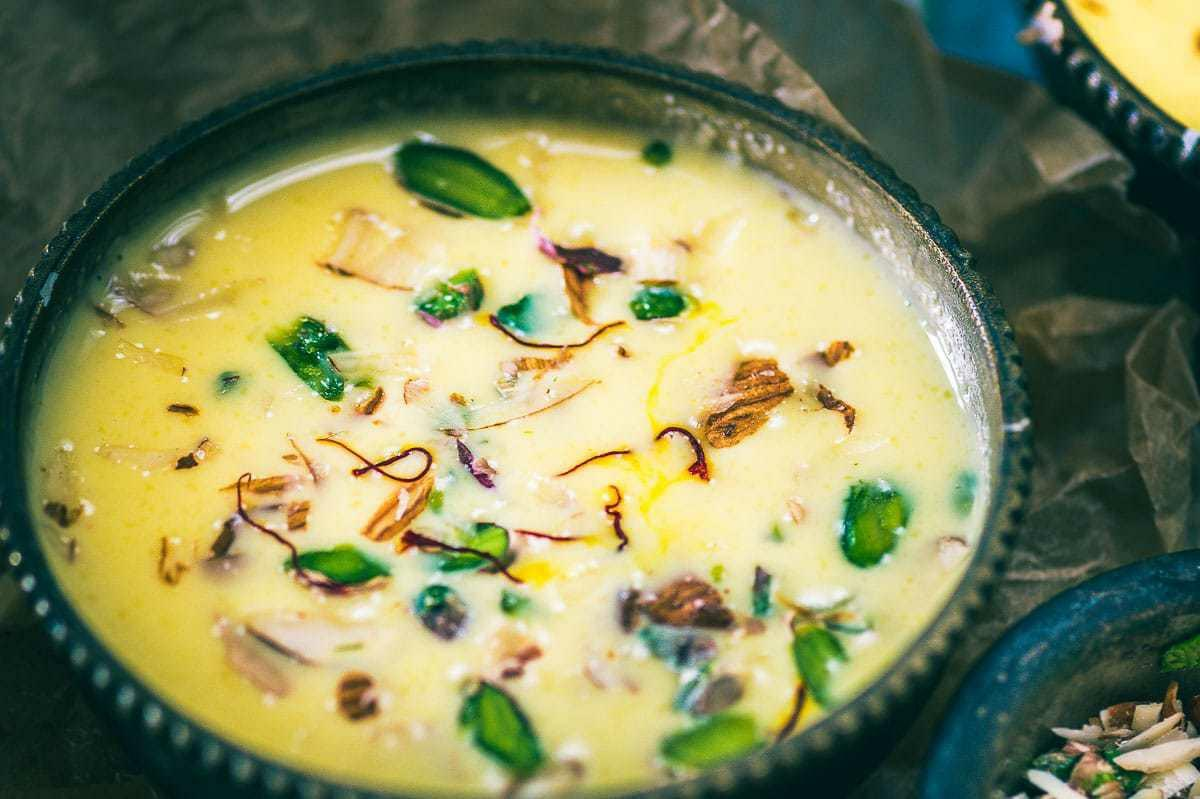Kheer: (30, 118, 990, 788)
